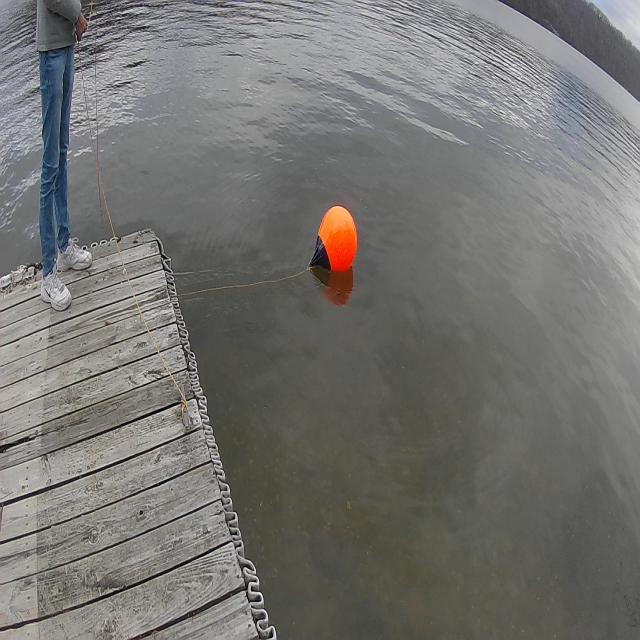Buoy: (307, 192, 359, 288)
